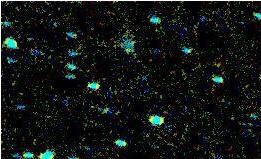star: (111, 36, 141, 66)
